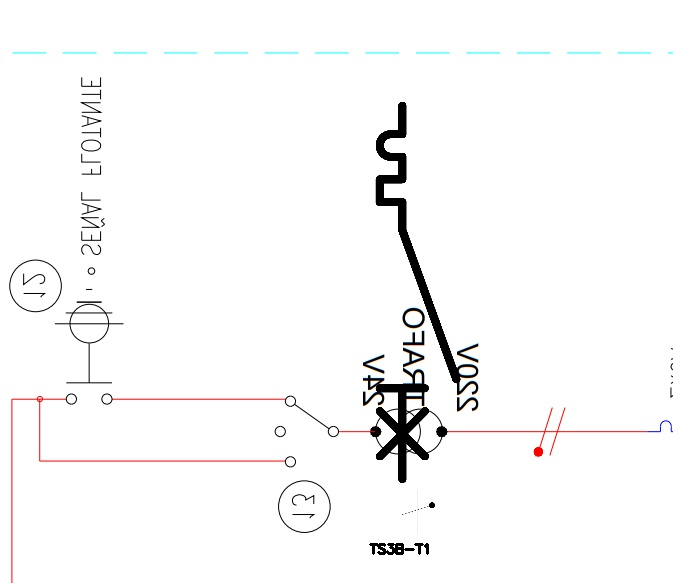interruptor_termomagnetico: (370, 96, 466, 488)
